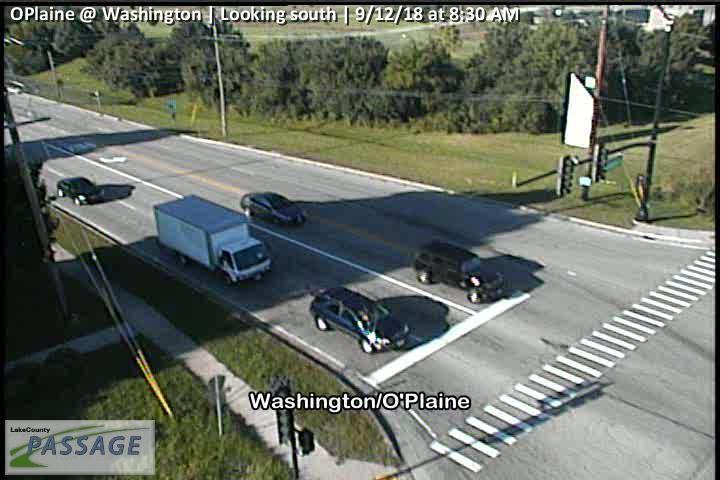SUV: (310, 287, 410, 354), (414, 241, 505, 301)
Sedan: (241, 192, 306, 228), (57, 178, 103, 205)
Truck: (155, 196, 272, 285)
